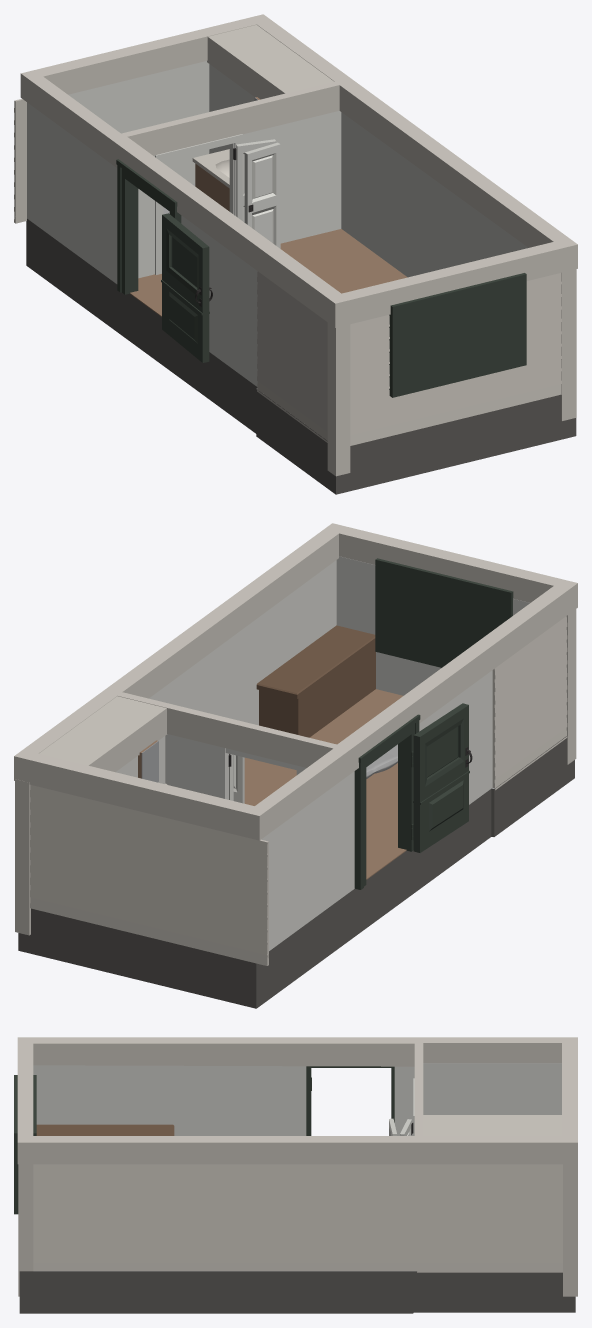
The model's file is house_bedroom.fbx.
3 renders of one model, top to bottom at view 1: azimuth 30°, elevation 25°; view 2: azimuth 150°, elevation 25°; view 3: azimuth 270°, elevation 25°, orthographic. The views are drawn at different scales.
Parts seen in each view (by area): view 1: bedroom, pCube48, clapboardbase1, placeholder_window4, clapboardbase, pCube53, door_main, pCube13, door_main_frame, door_inside, pCube14, bathroomsink (+4 smaller); view 2: bedroom, pCube48, clapboardbase4, placeholder_window4, clapboardbase, cupboard1, door_main, pCube53, door_main_frame, pCube15, pCube13, screenglass1 (+1 smaller); view 3: clapboardbase2, bedroom, pCube48, pCube53, pCube15, pCube14, cupboard2, placeholder_window4, door_main_frame.
Part boxes in pixels (bbox=[...]): bedroom: bbox=[26, 61, 576, 494]; pCube48: bbox=[20, 14, 577, 327]; clapboardbase1: bbox=[350, 273, 561, 445]; placeholder_window4: bbox=[389, 273, 526, 397]; clapboardbase: bbox=[257, 271, 327, 442]; pCube53: bbox=[207, 25, 333, 99]; door_main: bbox=[161, 213, 209, 362]; pCube13: bbox=[327, 322, 350, 476]; door_main_frame: bbox=[116, 159, 181, 294]; door_inside: bbox=[244, 142, 280, 248]; pCube14: bbox=[561, 269, 576, 420]; bathroomsink: bbox=[192, 149, 229, 211]; bedroom: bbox=[18, 556, 574, 1008]; pCube48: bbox=[14, 523, 577, 840]; clapboardbase4: bbox=[30, 785, 268, 965]; placeholder_window4: bbox=[375, 558, 513, 667]; clapboardbase: bbox=[492, 616, 567, 790]; cupboard1: bbox=[256, 625, 375, 737]; door_main: bbox=[413, 703, 469, 852]; pCube53: bbox=[39, 696, 167, 772]; door_main_frame: bbox=[354, 714, 420, 889]; pCube15: bbox=[15, 779, 30, 935]; pCube13: bbox=[566, 609, 576, 764]; screenglass1: bbox=[427, 726, 458, 777]; clapboardbase2: bbox=[33, 1164, 562, 1272]; bedroom: bbox=[19, 1063, 575, 1313]; pCube48: bbox=[17, 1037, 577, 1164]; pCube53: bbox=[423, 1115, 561, 1135]; pCube15: bbox=[563, 1164, 577, 1296]; pCube14: bbox=[18, 1164, 33, 1296]; cupboard2: bbox=[36, 1124, 174, 1135]; placeholder_window4: bbox=[14, 1075, 36, 1214]; door_main_frame: bbox=[306, 1066, 394, 1135].
Bounding box in the file's own units: 5.29 × 3.74 × 11.17.
